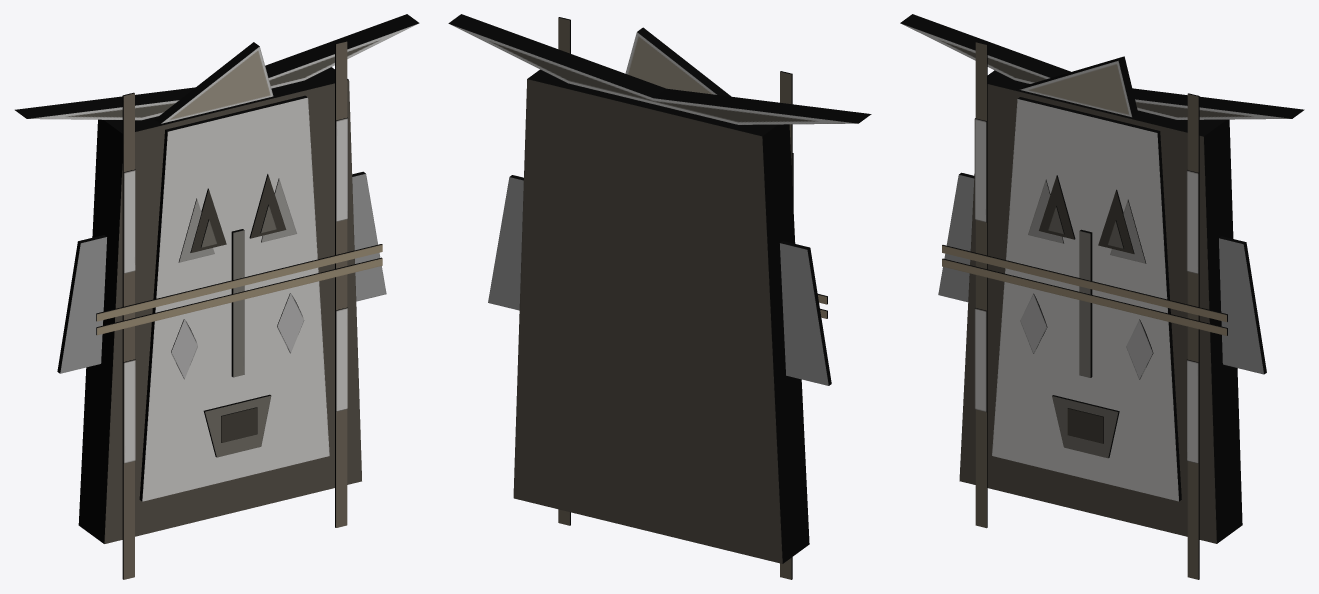
Rendered from Mask5.fbx.
The picture shows the model from 3 angles, left to right: view 1: azimuth 30°, elevation 25°; view 2: azimuth 150°, elevation 25°; view 3: azimuth 330°, elevation 25°; orthographic projection. The views are drawn at different scales.
Parts seen in each view (by area): view 1: rMasks-3a-2-Recovered; view 2: rMasks-3a-2-Recovered; view 3: rMasks-3a-2-Recovered.
Boxes of the visible parts, bbox=[...] form: rMasks-3a-2-Recovered: bbox=[15, 14, 419, 579]; rMasks-3a-2-Recovered: bbox=[448, 14, 871, 579]; rMasks-3a-2-Recovered: bbox=[900, 14, 1304, 579].
Bounding box in the file's own units: 118 × 142 × 16.01.
Materials: 1 (1 with a texture image).
